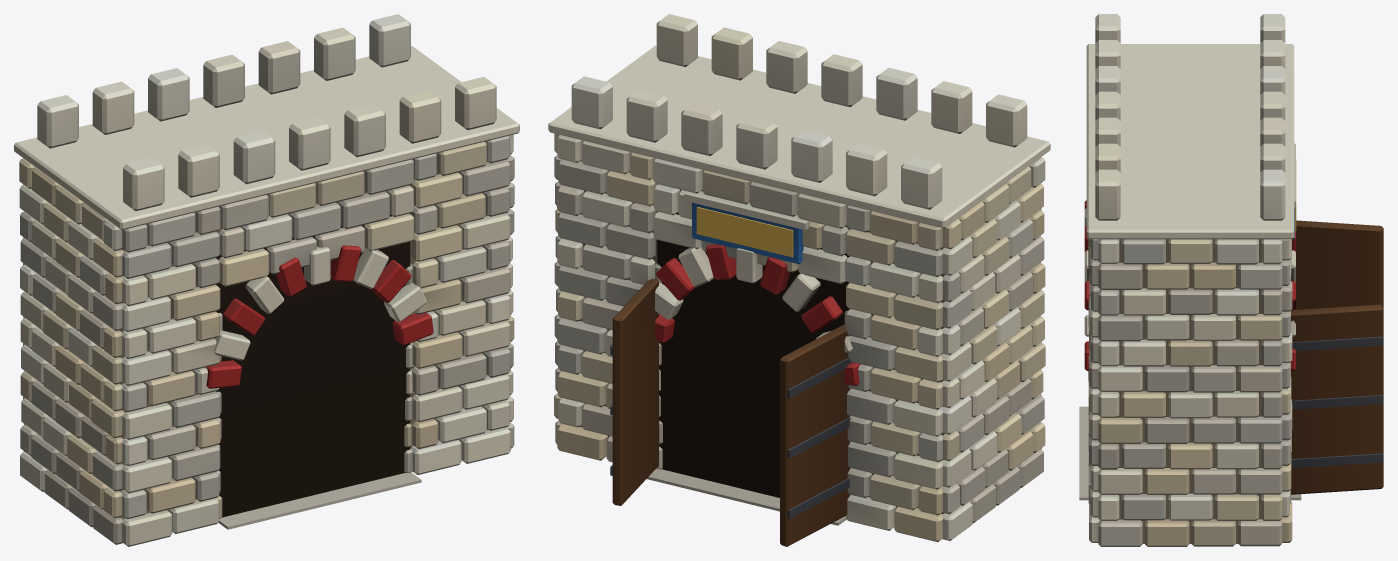
File: gate.glb
3 views of the same model, side by side, from view 1: azimuth 30°, elevation 25°; view 2: azimuth 150°, elevation 25°; view 3: azimuth 270°, elevation 25° (orthographic). The views are drawn at different scales.
Parts seen in each view (by area): view 1: gate; view 2: gate; view 3: gate.
Part boxes in pixels (x1=…): gate: x1=14, y1=14, x2=519, y2=546; gate: x1=548, y1=14, x2=1050, y2=546; gate: x1=1079, y1=14, x2=1383, y2=546.
Bounding box in the file's own units: 1.25 × 1.1 × 0.8498.
